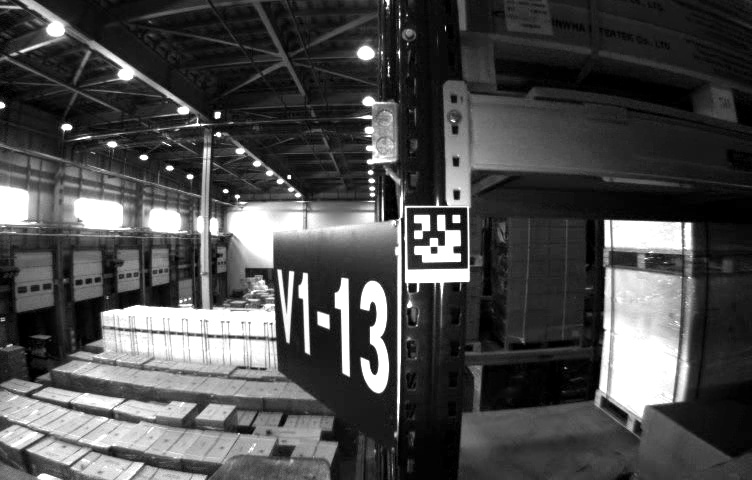True Barcode: (504, 1, 553, 36)
